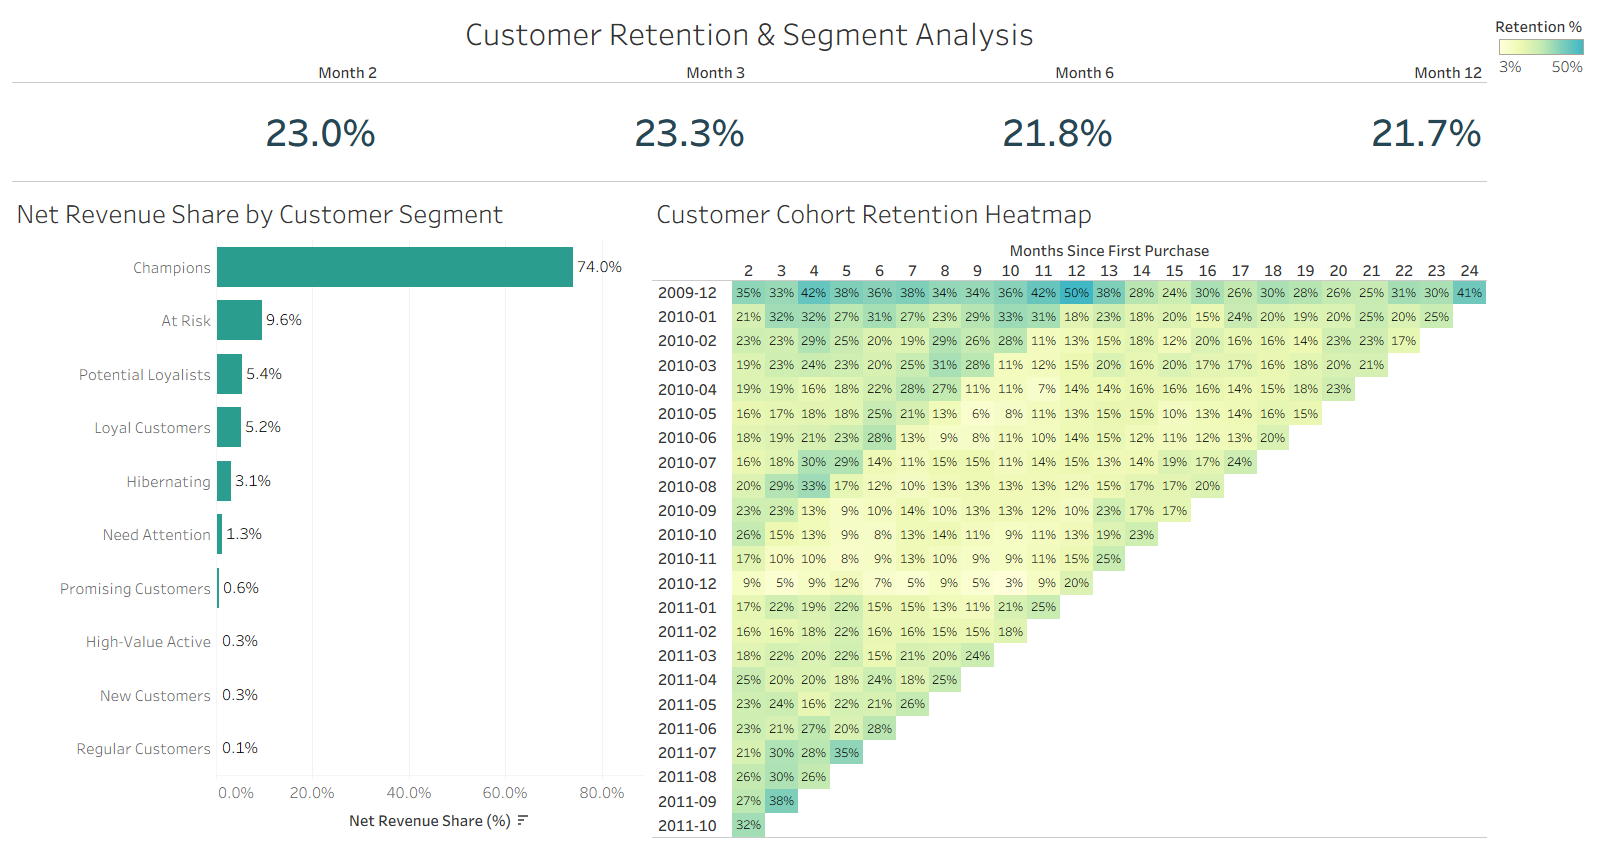

What the dashboard file says about the page in this screenshot:
{"tool":"tableau","page":{"name":"Retention Overview","canvas":[1600,850],"ordinal":0},"visuals":[{"type":"title","box":[8,8,1483,50]},{"type":"legend","title":"Cohort Retention","param":"[federated.1691ur31s2001v1cqayr61aoson6 (copy 3)].[sum:RETENTION_RATE_PCT:qk]","box":[1491,8,101,73]},{"type":"worksheet","title":"Retention KPI Cards","mark":"Text","cols":["RETENTION_PERIOD"],"box":[8,58,1483,128]},{"type":"worksheet","title":"Customer Segments","mark":"Bar","rows":["CUSTOMER_SEGMENT"],"cols":["NET_REVENUE_SHARE_PCT"],"box":[8,186,640,656]},{"type":"worksheet","title":"Cohort Retention","mark":"Square","rows":["COHORT_MONTH"],"cols":["COHORT_PERIOD"],"box":[648,186,843,656]}]}

Visuals, with their boxes in screenshot pixels (x1, y1, x2, y2), scaled from the page's 1600x850 canvas onto the 1600x850 screenshot:
title: x1=8 y1=8 x2=1491 y2=58
"Cohort Retention" legend: x1=1491 y1=8 x2=1592 y2=81
"Retention KPI Cards" worksheet (Text marks): x1=8 y1=58 x2=1491 y2=186
"Customer Segments" worksheet (Bar marks): x1=8 y1=186 x2=648 y2=842
"Cohort Retention" worksheet (Square marks): x1=648 y1=186 x2=1491 y2=842
